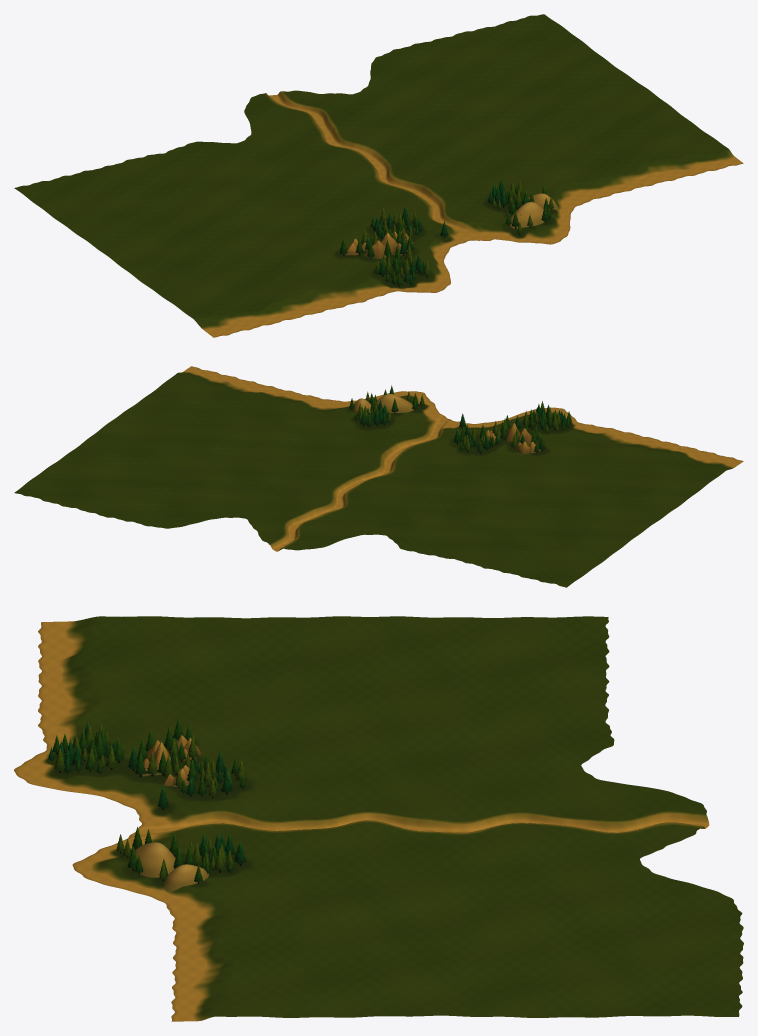
File: CoastalStudy_Landscape.fbx
3 views of the same model, one above another, from view 1: azimuth 30°, elevation 25°; view 2: azimuth 150°, elevation 25°; view 3: azimuth 270°, elevation 25° (orthographic). The views are drawn at different scales.
Parts seen in each view (by area): view 1: BayGround, EarthHill_A.001; view 2: BayGround, EarthHill_A.001; view 3: BayGround, EarthHill_A.001, EarthHill_A.002.
Part boxes in pixels (bbox=[...]): BayGround: bbox=[14, 14, 743, 337]; EarthHill_A.001: bbox=[509, 202, 544, 228]; BayGround: bbox=[14, 366, 743, 587]; EarthHill_A.001: bbox=[377, 394, 413, 412]; BayGround: bbox=[14, 616, 743, 1021]; EarthHill_A.001: bbox=[134, 842, 175, 877]; EarthHill_A.002: bbox=[164, 864, 208, 891].
Bounding box in the file's own units: 20000 × 801 × 15438.
